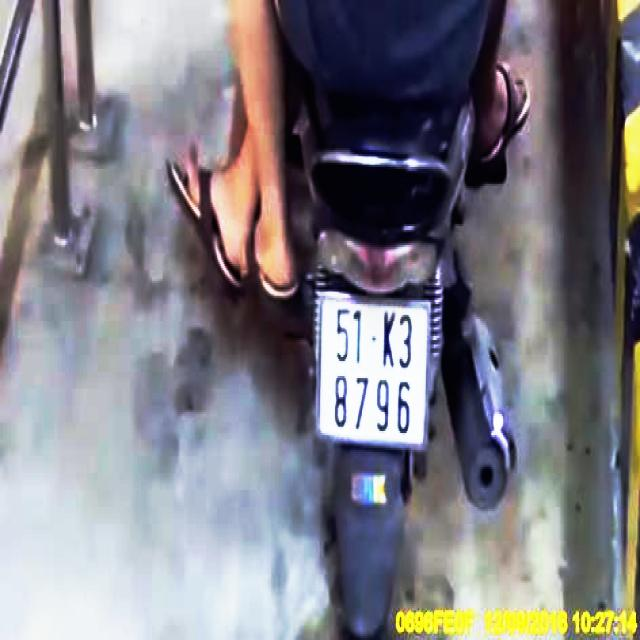license_plate: (318, 299, 431, 452)
